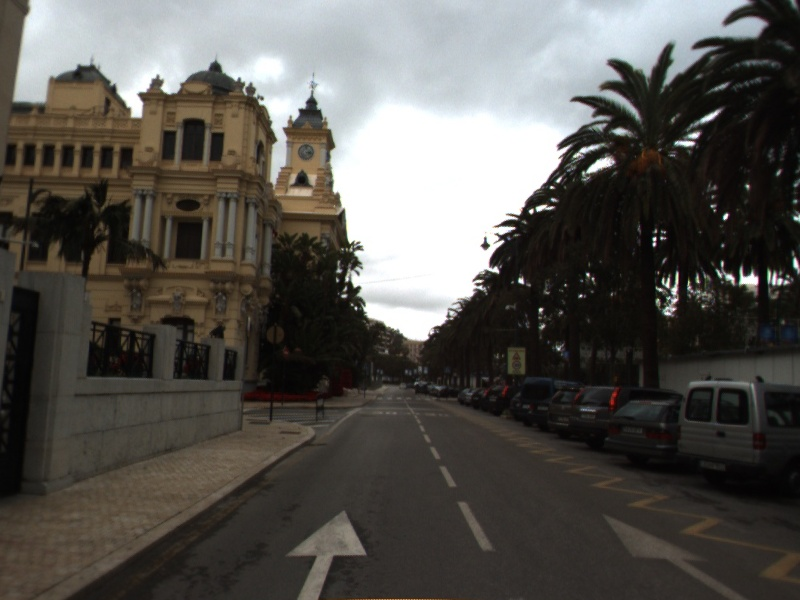STRAIGHT: (600, 511, 753, 600), (282, 507, 369, 600)
